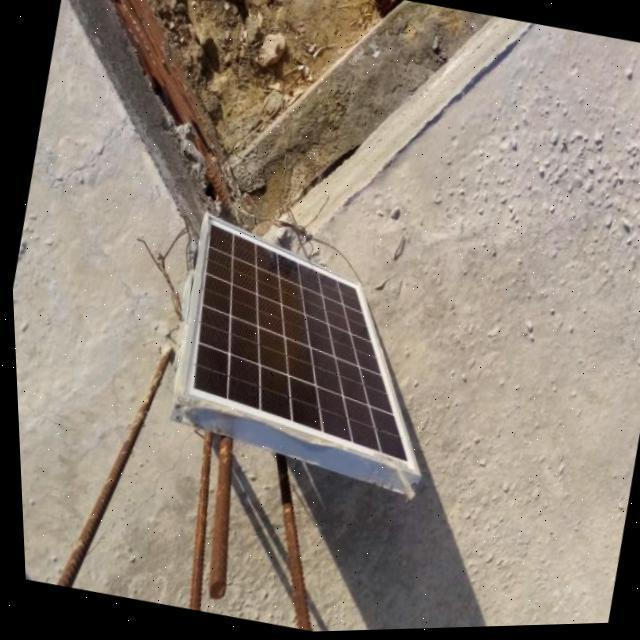Normal Solar Panel: (159, 208, 460, 482)
